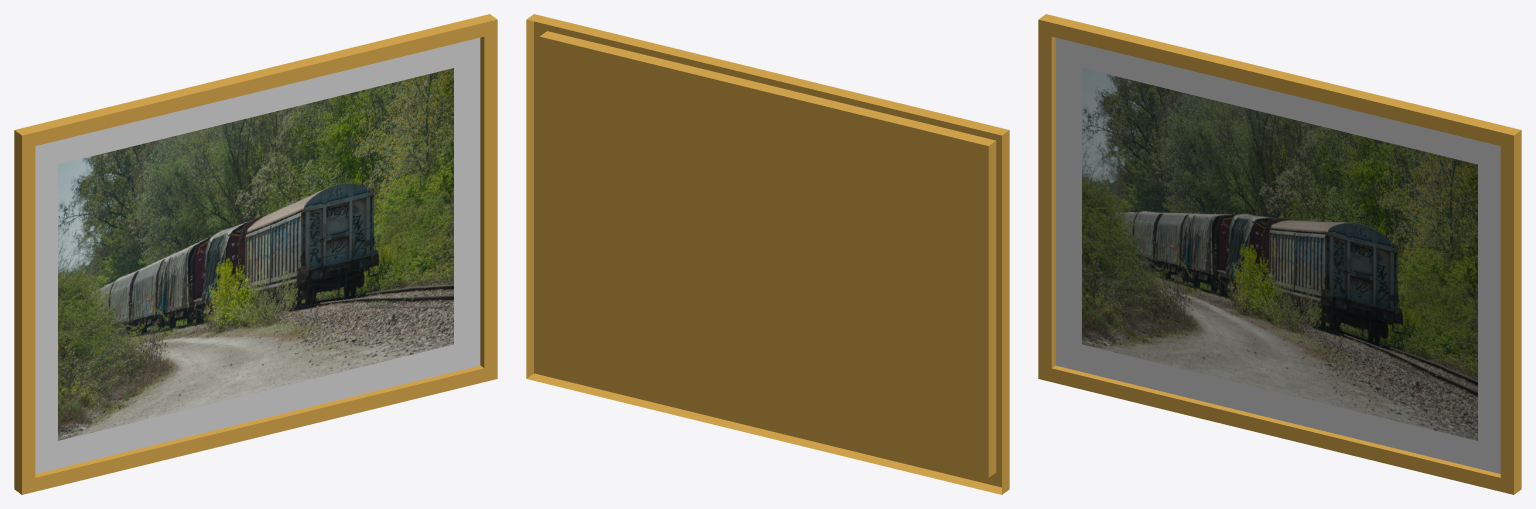
The model's file is wagon.fbx.
3 renders of one model, left to right at view 1: azimuth 30°, elevation 25°; view 2: azimuth 150°, elevation 25°; view 3: azimuth 330°, elevation 25°, orthographic.
Visible parts, largest first — view 1: Image, Background, Frame; view 2: Frame; view 3: Image, Background, Frame.
Boxes of the visible parts, box(x1,y1,x2,y2) form: Image: box(58, 68, 453, 440); Background: box(35, 37, 480, 473); Frame: box(14, 14, 497, 494); Frame: box(526, 14, 1009, 494); Image: box(1082, 68, 1477, 440); Background: box(1055, 37, 1500, 473); Frame: box(1038, 14, 1521, 494).
Bounding box in the file's own units: 360 × 260 × 10.
